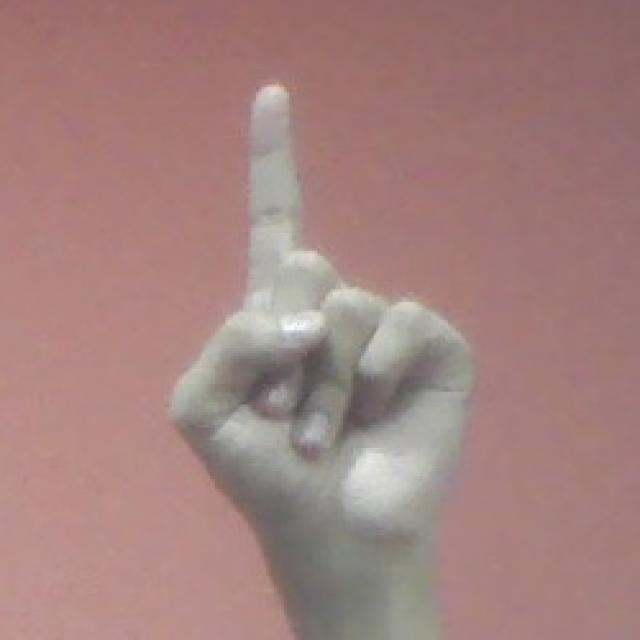Numeric-1: (172, 87, 470, 562)
